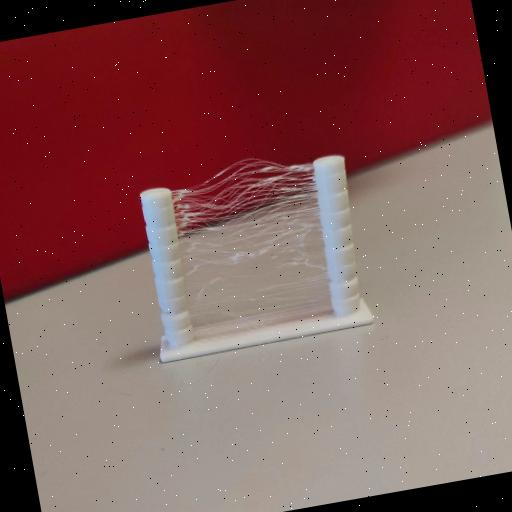stringing: (176, 152, 327, 327)
